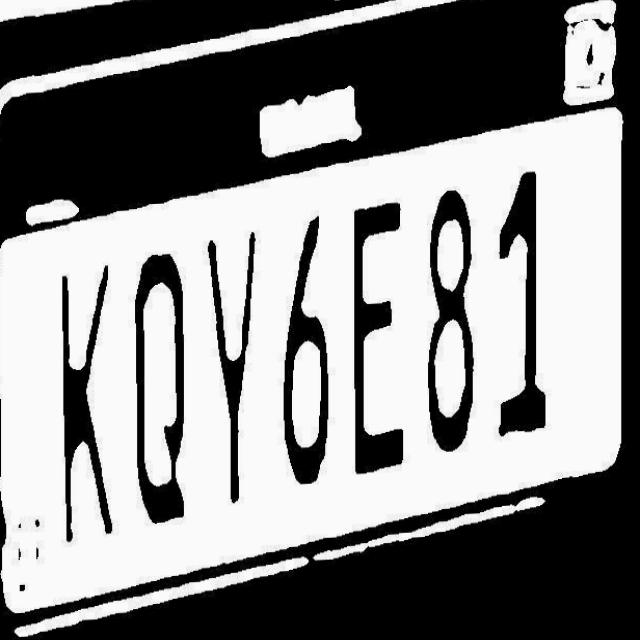1: (484, 164, 568, 465)
6: (277, 199, 344, 507)
8: (419, 171, 482, 481)
e: (340, 168, 416, 499)
k: (48, 261, 125, 542)
q: (128, 223, 199, 533)
y: (199, 213, 270, 518)
